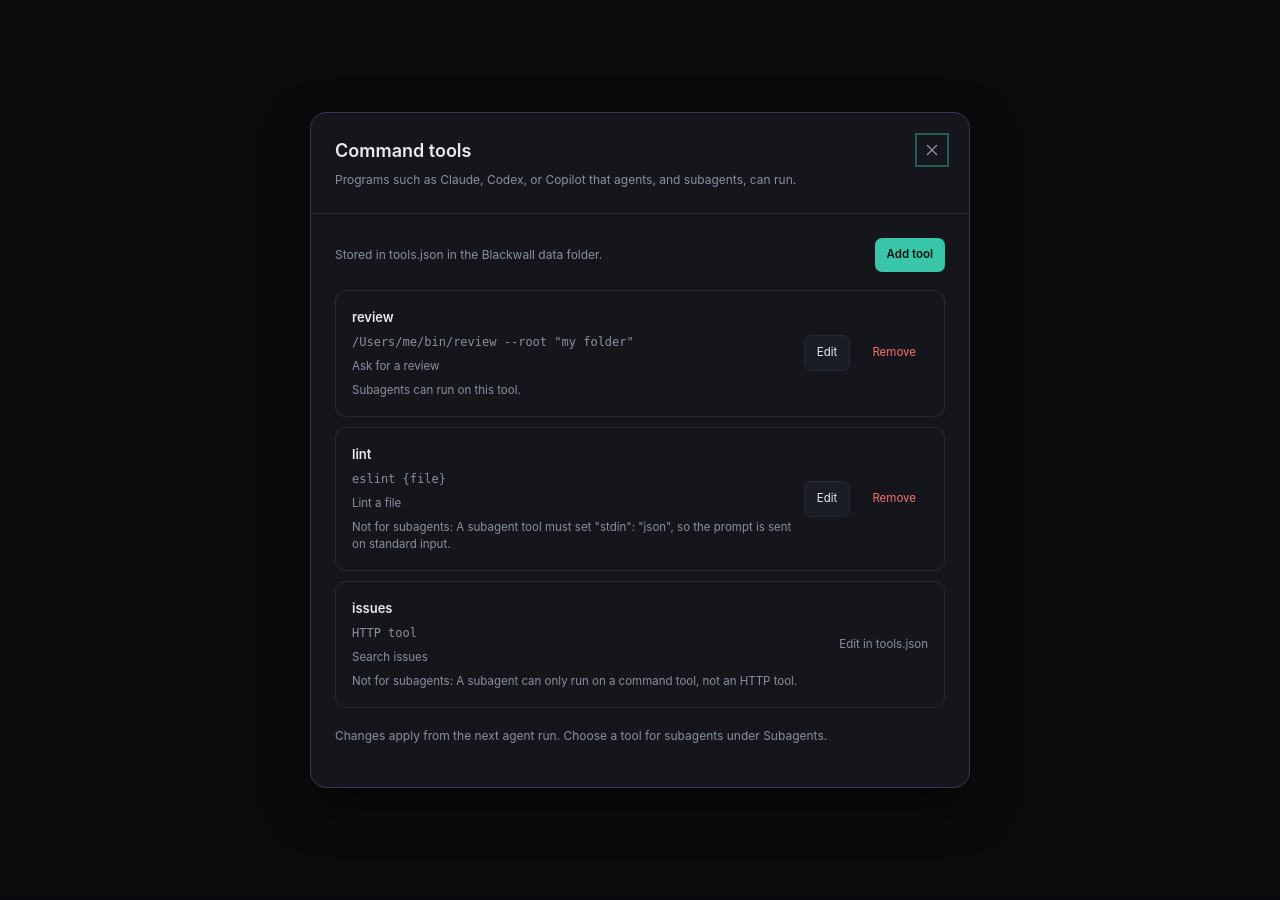
Test: command tools screen › shows the message from a refused save
The width and height of the screenshot is (1280, 900).
Click the button with aria-label "Edit review": {"x": 827, "y": 353} [804,335,850,371]
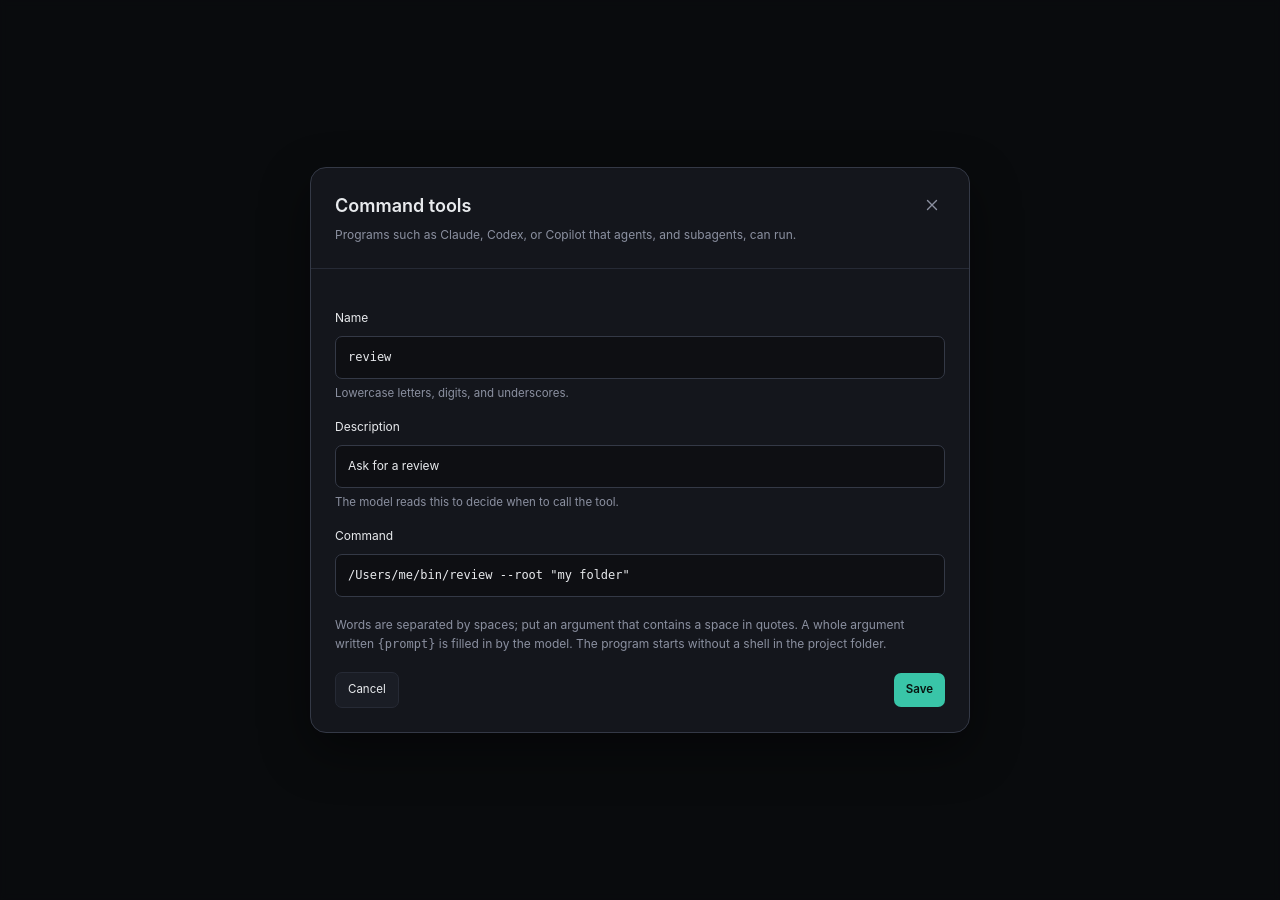
Click the button "Save": {"x": 919, "y": 690} [894,673,945,707]
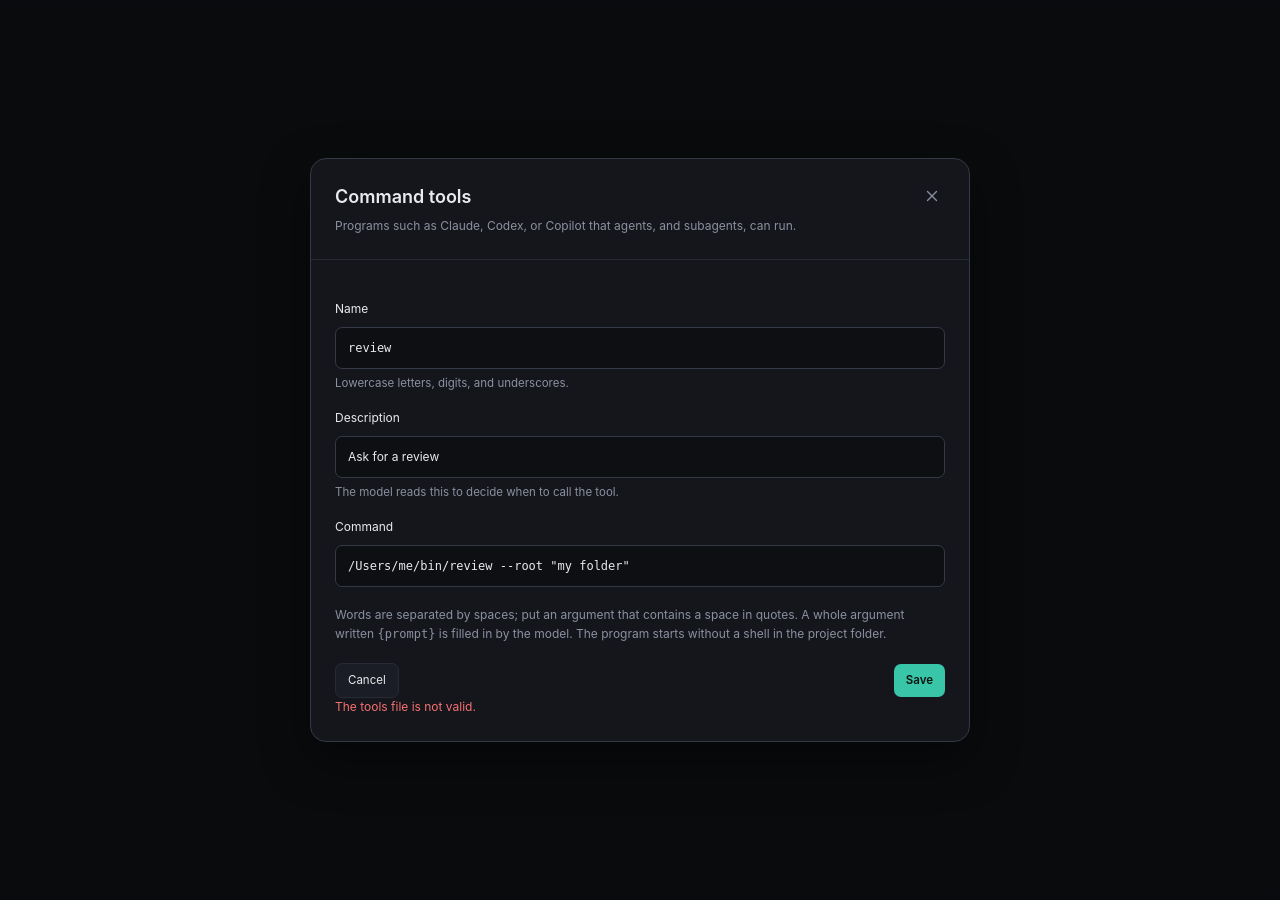
Now the message reads "The tools file is not valid.", box [335,699,476,714]
